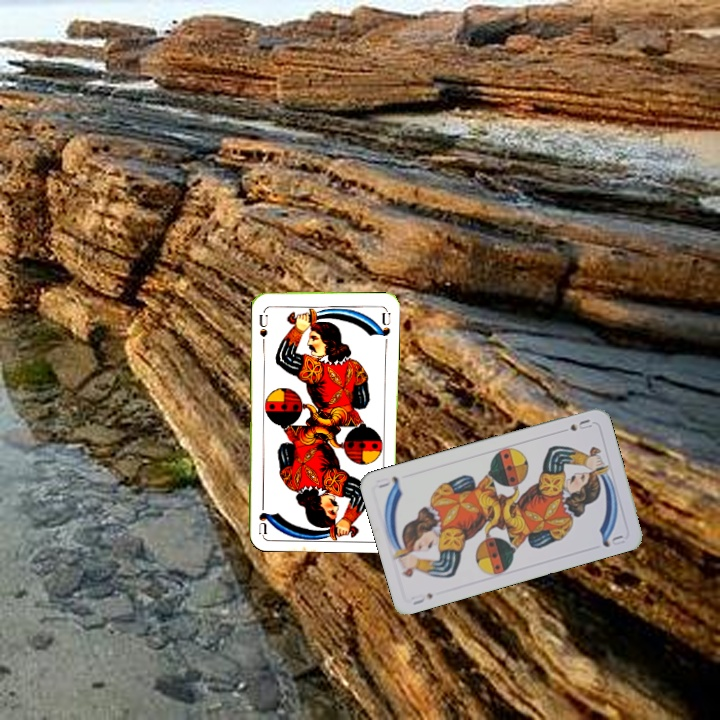SU: (566, 415, 594, 434), (409, 589, 436, 608), (255, 310, 270, 340)
